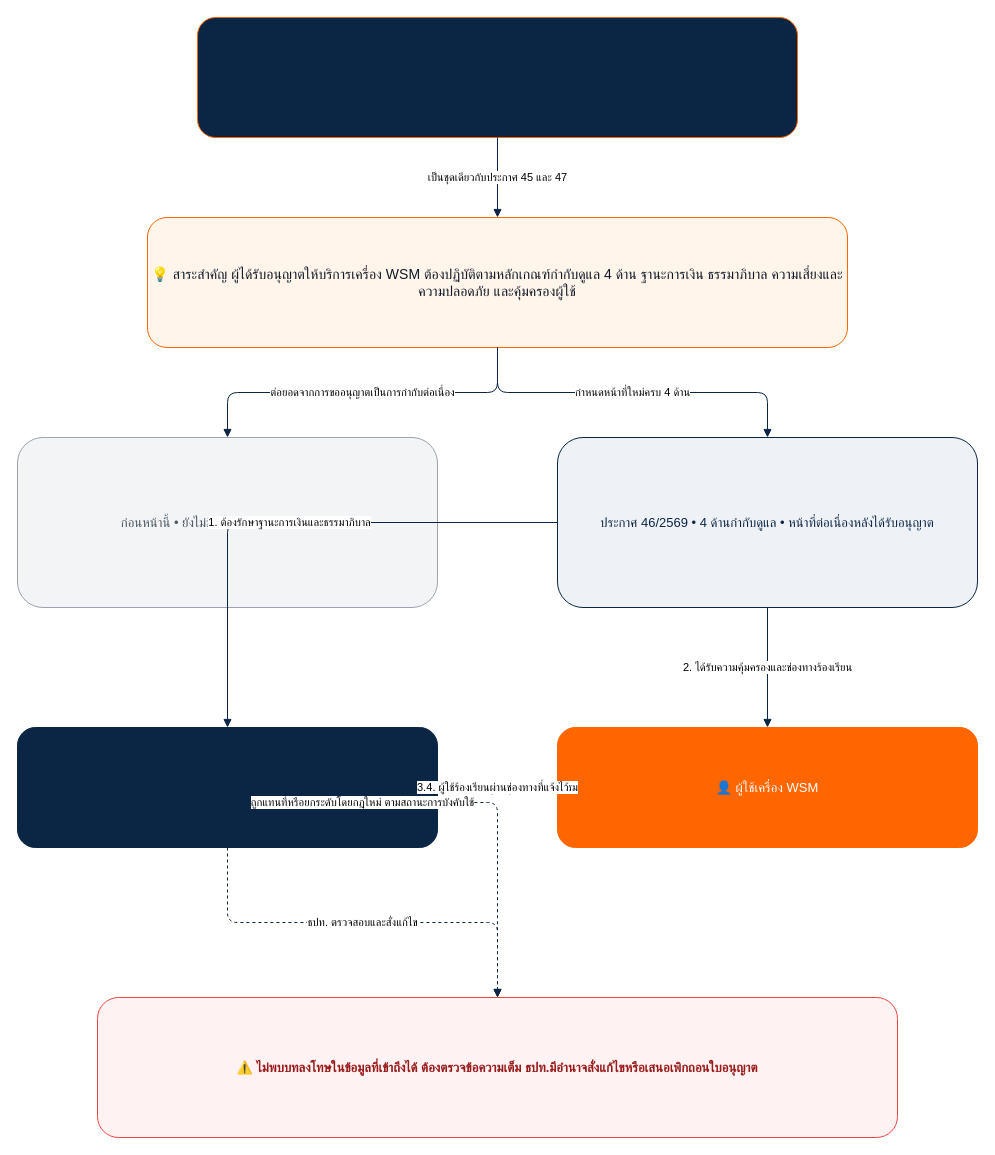
Image size: 995x1155. Some labels were removed from this diagram. The box of each missing label's shape, as (x1, y1, x2, y2) in pixels:
ประกาศ ธปท. ที่ 46/2569 กำกับดูแลผู้ให้บริการเครื่อง WSM ราชกิจจาฯ 7 ต.ค. 2569: (196, 16, 798, 138)
🏢 ผู้ให้บริการ WSM ที่ได้รับอนุญาต: (16, 726, 438, 848)
